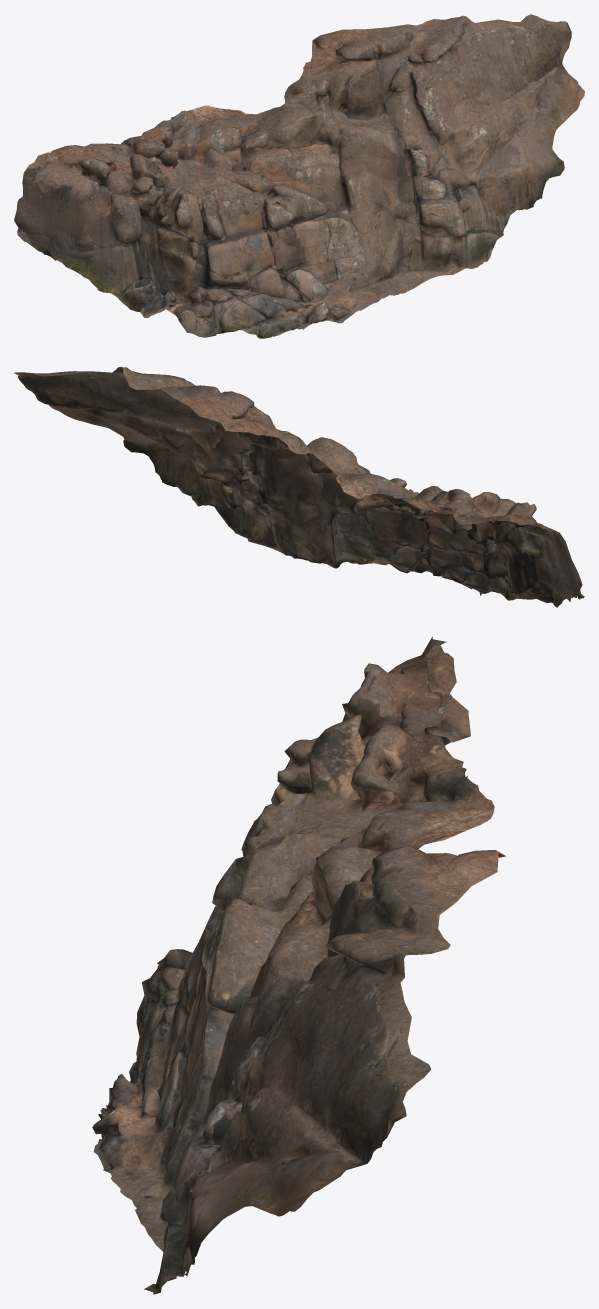
The model's file is cliff_ridge_02.glb.
The picture shows the model from 3 angles, top to bottom: view 1: azimuth 30°, elevation 25°; view 2: azimuth 150°, elevation 25°; view 3: azimuth 270°, elevation 25°; orthographic projection. The views are drawn at different scales.
Parts seen in each view (by area): view 1: cliff_ridge_02; view 2: cliff_ridge_02; view 3: cliff_ridge_02.
Boxes of the visible parts, x1,y1,x2,y2 form: cliff_ridge_02: [14, 14, 584, 338]; cliff_ridge_02: [14, 367, 584, 607]; cliff_ridge_02: [92, 636, 505, 1294].
Bounding box in the file's own units: 20.21 × 7.19 × 6.6.
Materials: 1 (1 with a texture image).
